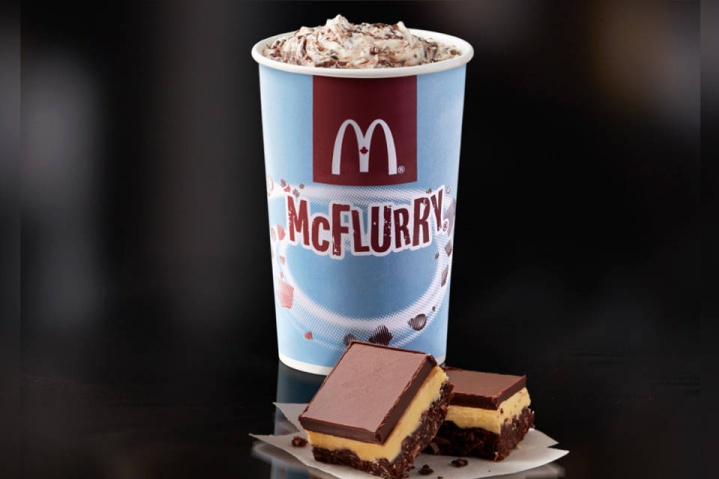mcdonalds: (330, 115, 399, 183)
